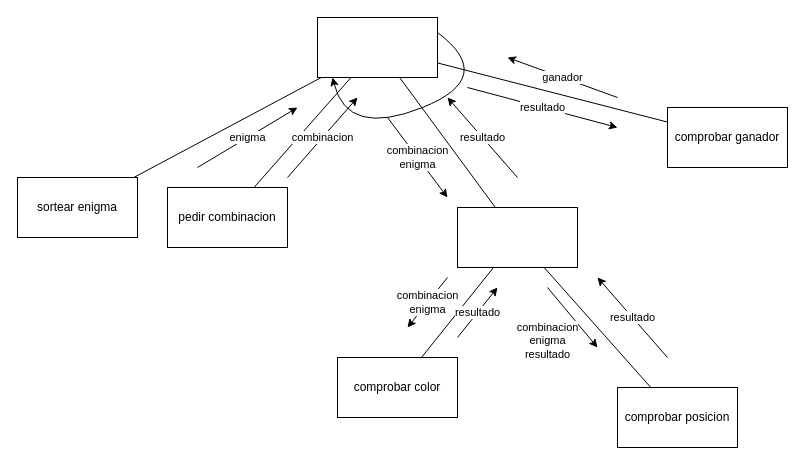
Image size: 805x465. Some labels were removed from this diagram. Each missing label, with the centre of its shape:
comprobar combinacion: the point at 517,237
mastermind: the point at 377,47
